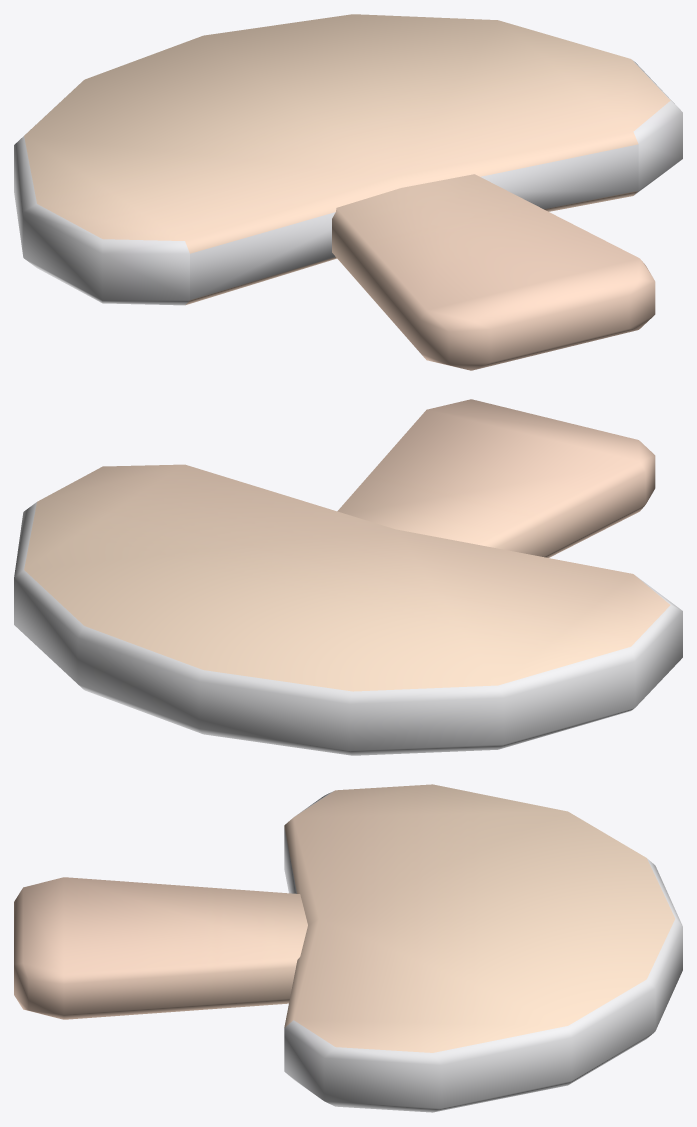
The model's file is Mushroom_slice_01.001.fbx.
3 views of the same model, one above another, from view 1: azimuth 30°, elevation 25°; view 2: azimuth 150°, elevation 25°; view 3: azimuth 270°, elevation 25° (orthographic). The views are drawn at different scales.
Visible parts, largest first — view 1: Mushroom_slice_01.001; view 2: Mushroom_slice_01.001; view 3: Mushroom_slice_01.001.
Part boxes in pixels (x1=…): Mushroom_slice_01.001: x1=14, y1=14, x2=682, y2=370; Mushroom_slice_01.001: x1=14, y1=399, x2=682, y2=755; Mushroom_slice_01.001: x1=14, y1=784, x2=682, y2=1112.
Bounding box in the file's own units: 43.36 × 44.31 × 4.35.
